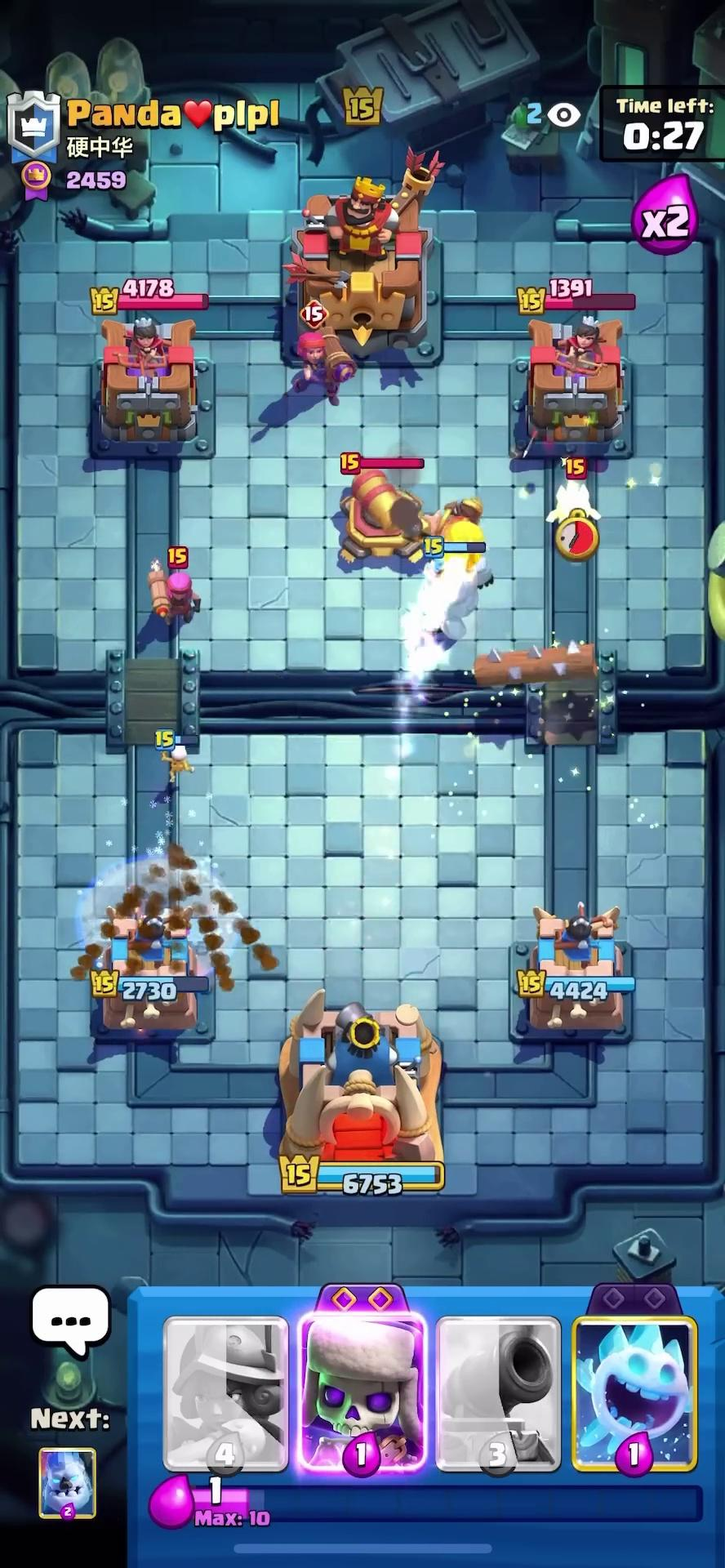fireball: (427, 521, 492, 572)
hog_rider: (423, 488, 498, 539)
ice_golem: (414, 545, 486, 637)
log: (455, 635, 602, 706)
skeletons: (153, 725, 208, 786)
